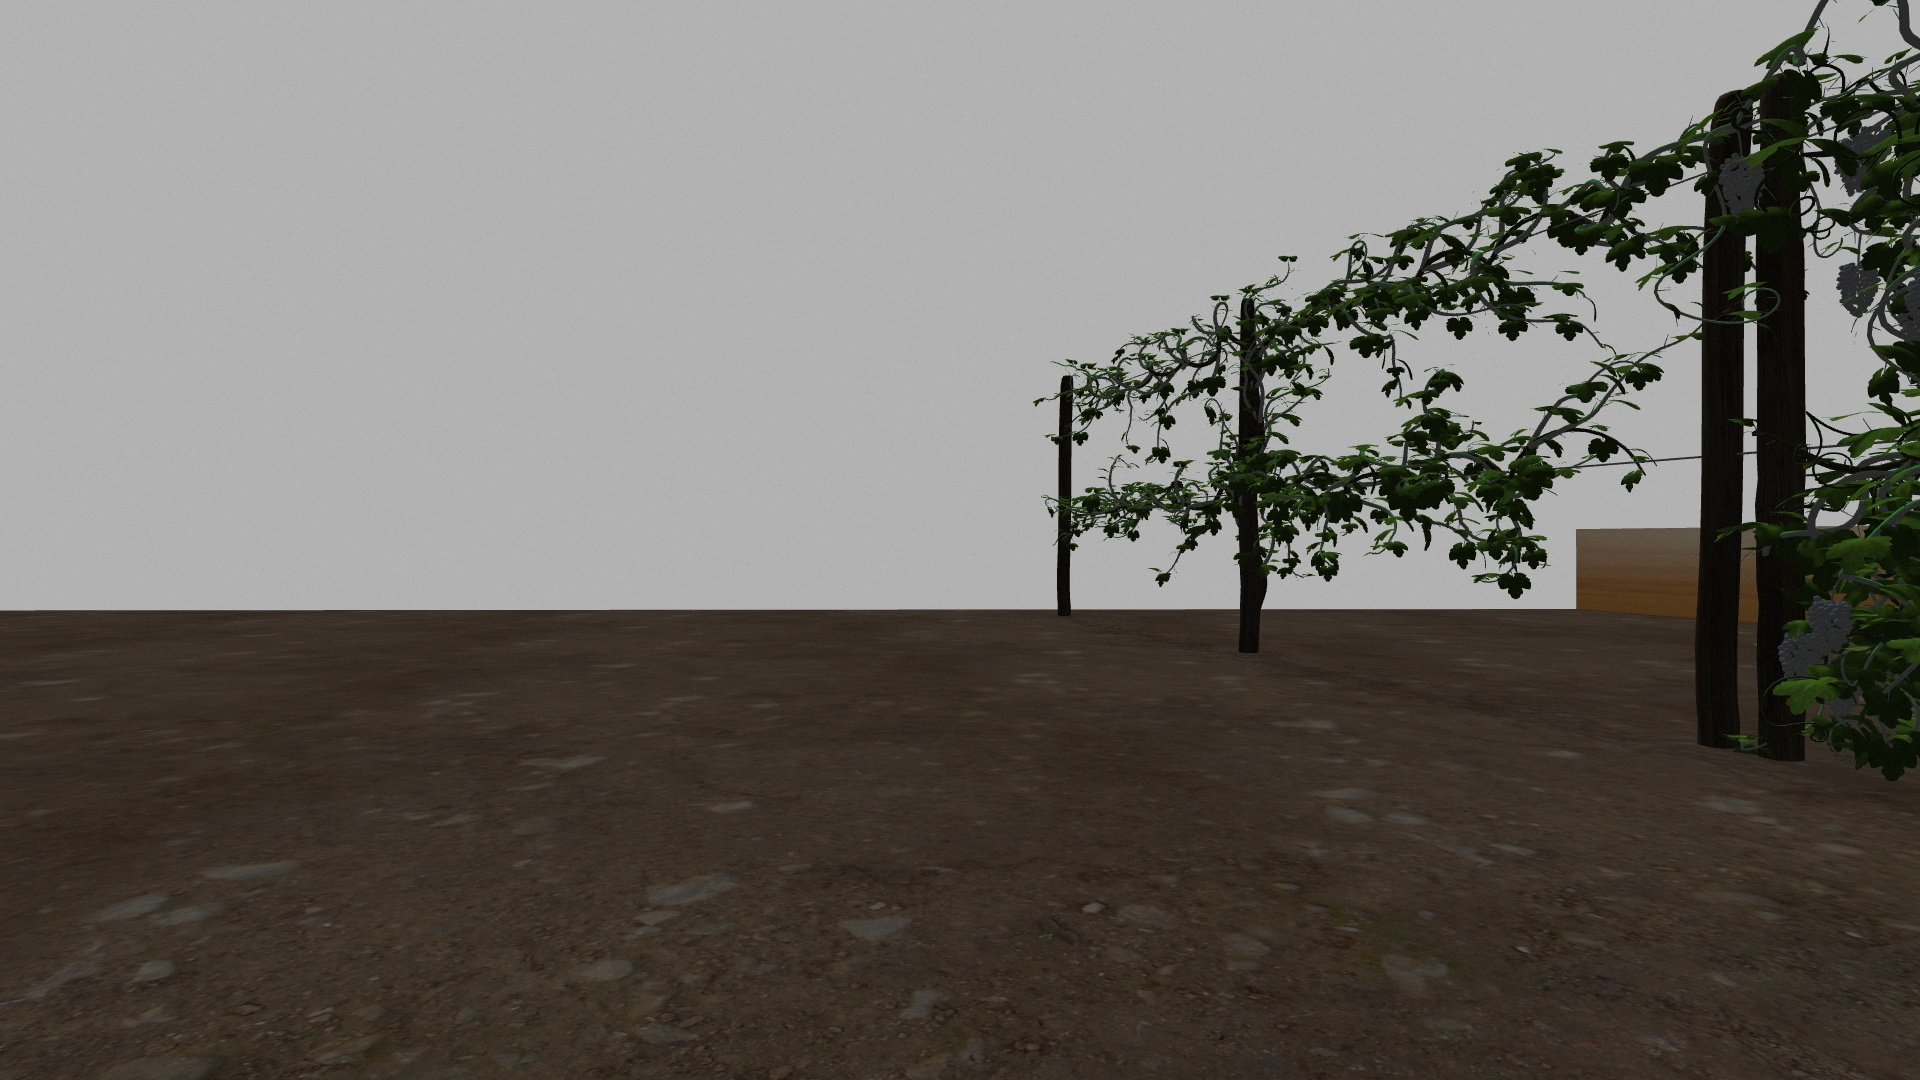grape: (1718, 156, 1764, 216), (1808, 593, 1853, 655), (1836, 261, 1880, 316), (1776, 633, 1818, 680)
